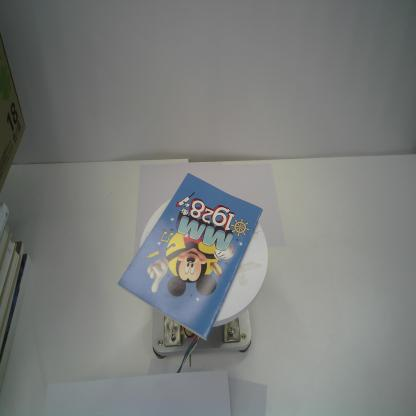Stationery: (115, 173, 264, 341)
